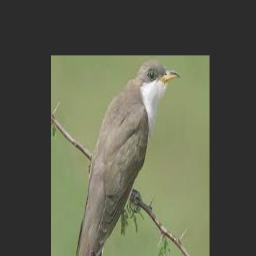Cuckoo: (73, 60, 180, 256)
